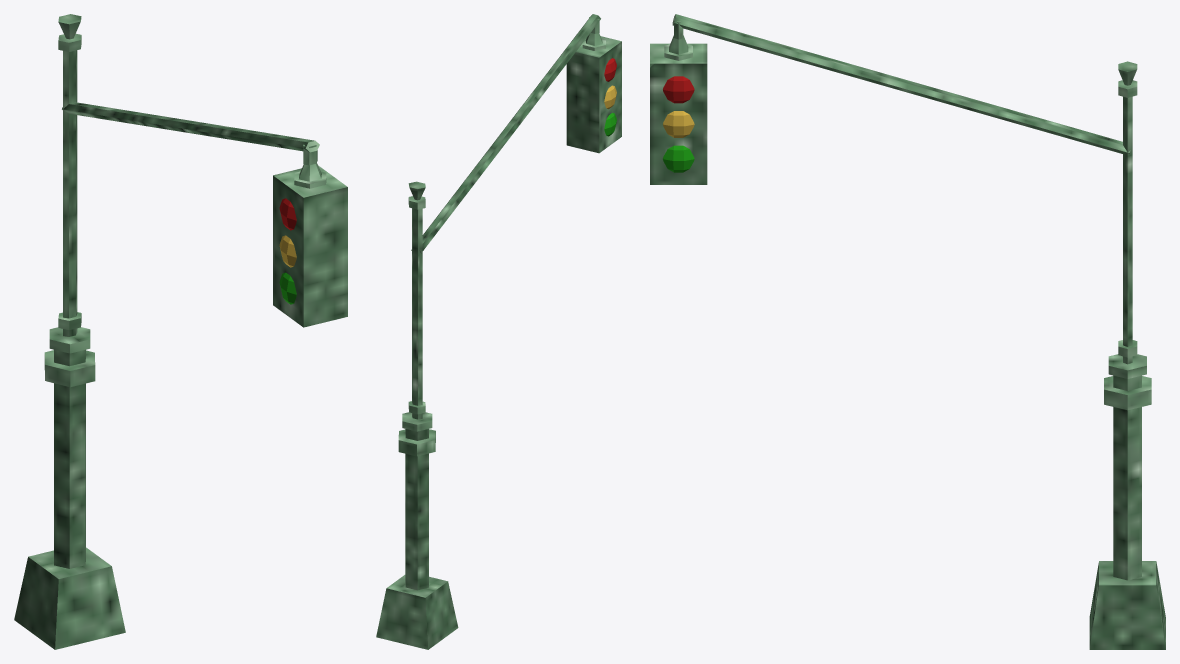
File: TrafficLight.fbx
The picture shows the model from 3 angles, left to right: view 1: azimuth 30°, elevation 25°; view 2: azimuth 150°, elevation 25°; view 3: azimuth 270°, elevation 25°; orthographic projection. The views are drawn at different scales.
Visible parts, largest first — view 1: LightBox, Base, cylinder, cylinder_1, cylinder_8, cylinder_5, cylinder_2; view 2: LightBox, Base, cylinder, cylinder_8, cylinder_1, cylinder_5, cylinder_2; view 3: LightBox, cylinder_8, Base, cylinder, cylinder_1, cylinder_5, cylinder_2.
Boxes of the visible parts, x1,y1,x2,y2 form: LightBox: (273, 165, 347, 327); Base: (14, 547, 125, 649); cylinder: (54, 349, 85, 568); cylinder_1: (63, 50, 77, 336); cylinder_8: (62, 102, 319, 152); cylinder_5: (44, 350, 95, 387); cylinder_2: (49, 327, 90, 353); LightBox: (566, 36, 621, 153); Base: (376, 575, 458, 649); cylinder: (405, 429, 428, 590); cylinder_8: (411, 14, 600, 253); cylinder_1: (412, 208, 422, 419); cylinder_5: (398, 429, 435, 456); cylinder_2: (402, 412, 432, 431); LightBox: (650, 43, 707, 184); cylinder_8: (672, 14, 1130, 153); Base: (1089, 561, 1165, 649); cylinder: (1113, 375, 1141, 580); cylinder_1: (1123, 96, 1132, 364); cylinder_5: (1104, 376, 1151, 410); cylinder_2: (1108, 354, 1146, 378).
Size of the model in its own units: 25 by 223 by 169.
4 materials, 4 textured.
